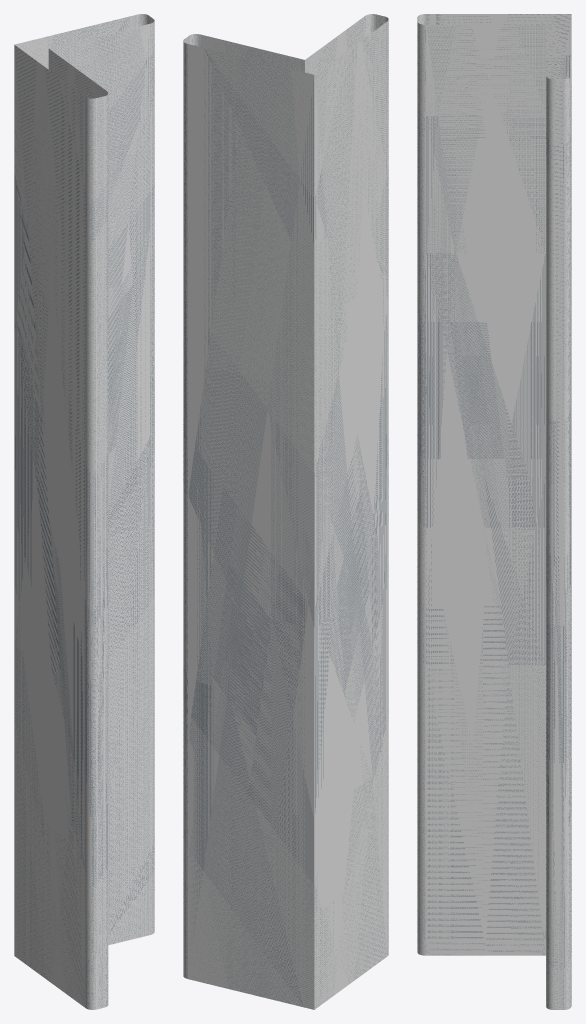
Rendered from PW_CornerFixElem_ds_T2_060x060x010x400.dae.
The picture shows the model from 3 angles, left to right: view 1: azimuth 30°, elevation 25°; view 2: azimuth 150°, elevation 25°; view 3: azimuth 270°, elevation 25°; orthographic projection. The views are drawn at different scales.
Visible parts, largest first — view 1: group_0; view 2: group_0; view 3: group_0.
Boxes of the visible parts, x1,y1,x2,y2 form: group_0: [14, 14, 154, 1009]; group_0: [183, 14, 388, 1009]; group_0: [417, 14, 571, 1009].
Size of the model in its own units: 23.62 by 23.62 by 157.
